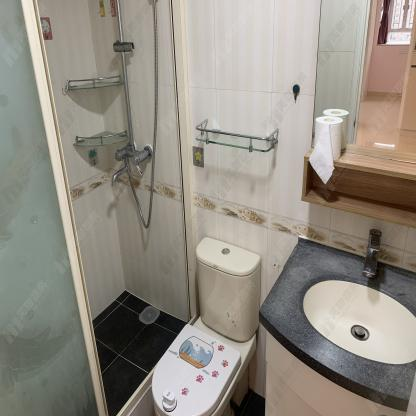Toilet: (152, 237, 261, 416)
Toilet Sink: (258, 234, 415, 413)
Water Cubicle: (0, 0, 200, 416)
